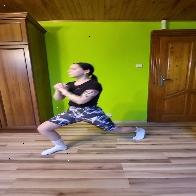lunges: (33, 62, 149, 159)
